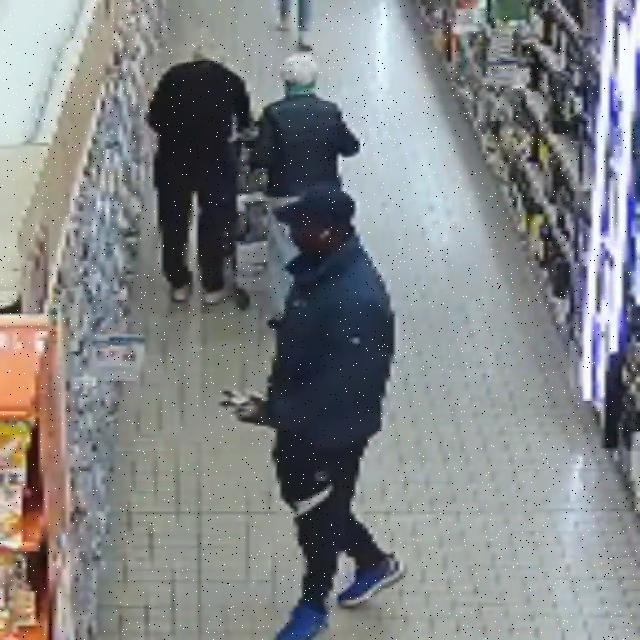article: (222, 386, 263, 403), (218, 392, 246, 410)
hands: (236, 399, 269, 427)
person: (231, 186, 404, 639), (148, 48, 250, 304), (251, 54, 359, 197)
